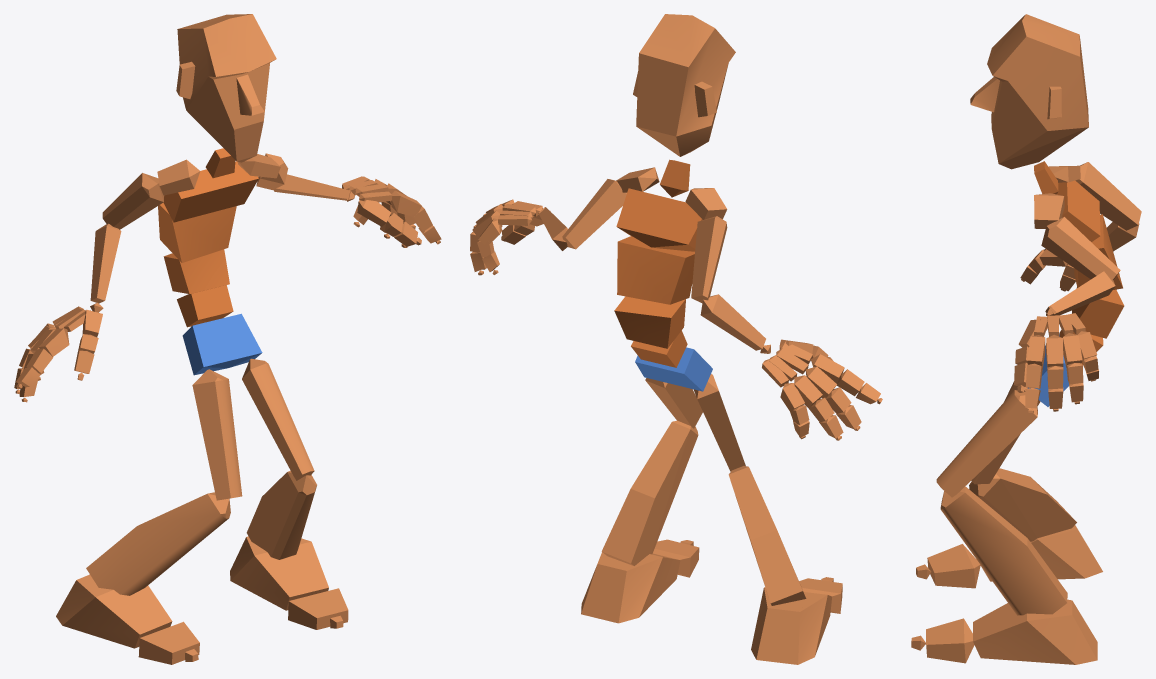
The picture shows the model from 3 angles, left to right: view 1: azimuth 30°, elevation 25°; view 2: azimuth 150°, elevation 25°; view 3: azimuth 270°, elevation 25°; orthographic projection. The views are drawn at different scales.
Parts seen in each view (by area): view 1: BOPED_Head, BOPED_R_leg, BOPED_R_foot, BOPED_R_foot01, BOPED_R_legup, BOPED_L_leg, BOPED_L_legup, Bone01, Bone04, Bone05, Bone03, BOPED_R_arm_upper (+8 smaller); view 2: BOPED_Head, BOPED_L_leg, BOPED_R_foot01, BOPED_R_foot, BOPED_R_leg, Bone04, Bone05, Bone03, BOPED_R_arm_upper, BOPED_L_arm_upper, BOPED_R_legup, Bone01 (+9 smaller); view 3: BOPED_Head, BOPED_L_leg, BOPED_R_foot01, BOPED_R_leg, BOPED_L_legup, BOPED_R_foot, BOPED_L_arm_upper, BOPED_R_arm_upper, BOPED_R_foot_toe01, BOPED_R_foot_toe04, Bone05, Bone03 (+14 smaller).
Boxes of the visible parts, x1=… form: BOPED_Head: x1=176, y1=14, x2=276, y2=162; BOPED_R_leg: x1=86, y1=492, x2=230, y2=595; BOPED_R_foot: x1=56, y1=574, x2=172, y2=648; BOPED_R_foot01: x1=230, y1=536, x2=328, y2=610; BOPED_R_legup: x1=192, y1=369, x2=242, y2=500; BOPED_L_leg: x1=246, y1=470, x2=316, y2=559; BOPED_L_legup: x1=242, y1=358, x2=314, y2=480; Bone01: x1=182, y1=313, x2=262, y2=375; Bone04: x1=158, y1=202, x2=236, y2=262; Bone05: x1=163, y1=161, x2=258, y2=222; Bone03: x1=163, y1=249, x2=229, y2=293; BOPED_R_arm_upper: x1=102, y1=173, x2=164, y2=229; BOPED_Head: x1=633, y1=14, x2=735, y2=156; BOPED_L_leg: x1=601, y1=420, x2=698, y2=565; BOPED_R_foot01: x1=581, y1=552, x2=680, y2=623; BOPED_R_foot: x1=751, y1=587, x2=831, y2=664; BOPED_R_leg: x1=728, y1=466, x2=806, y2=605; Bone04: x1=617, y1=236, x2=694, y2=304; Bone05: x1=616, y1=188, x2=702, y2=251; Bone03: x1=614, y1=296, x2=685, y2=348; BOPED_R_arm_upper: x1=691, y1=216, x2=727, y2=302; BOPED_L_arm_upper: x1=562, y1=179, x2=626, y2=249; BOPED_R_legup: x1=693, y1=374, x2=745, y2=471; Bone01: x1=635, y1=347, x2=712, y2=391; BOPED_Head: x1=970, y1=14, x2=1088, y2=169; BOPED_L_leg: x1=940, y1=486, x2=1067, y2=615; BOPED_R_foot01: x1=973, y1=599, x2=1097, y2=664; BOPED_R_leg: x1=969, y1=468, x2=1076, y2=541; BOPED_L_legup: x1=936, y1=390, x2=1037, y2=497; BOPED_R_foot: x1=980, y1=525, x2=1102, y2=581; BOPED_L_arm_upper: x1=1041, y1=217, x2=1120, y2=279; BOPED_R_arm_upper: x1=1075, y1=162, x2=1141, y2=230; BOPED_R_foot_toe01: x1=927, y1=544, x2=980, y2=588; BOPED_R_foot_toe04: x1=926, y1=618, x2=974, y2=663; Bone05: x1=1057, y1=180, x2=1100, y2=241; Bone03: x1=1072, y1=287, x2=1124, y2=338.
Bounding box in the file's own units: 130 × 176 × 61.06.
